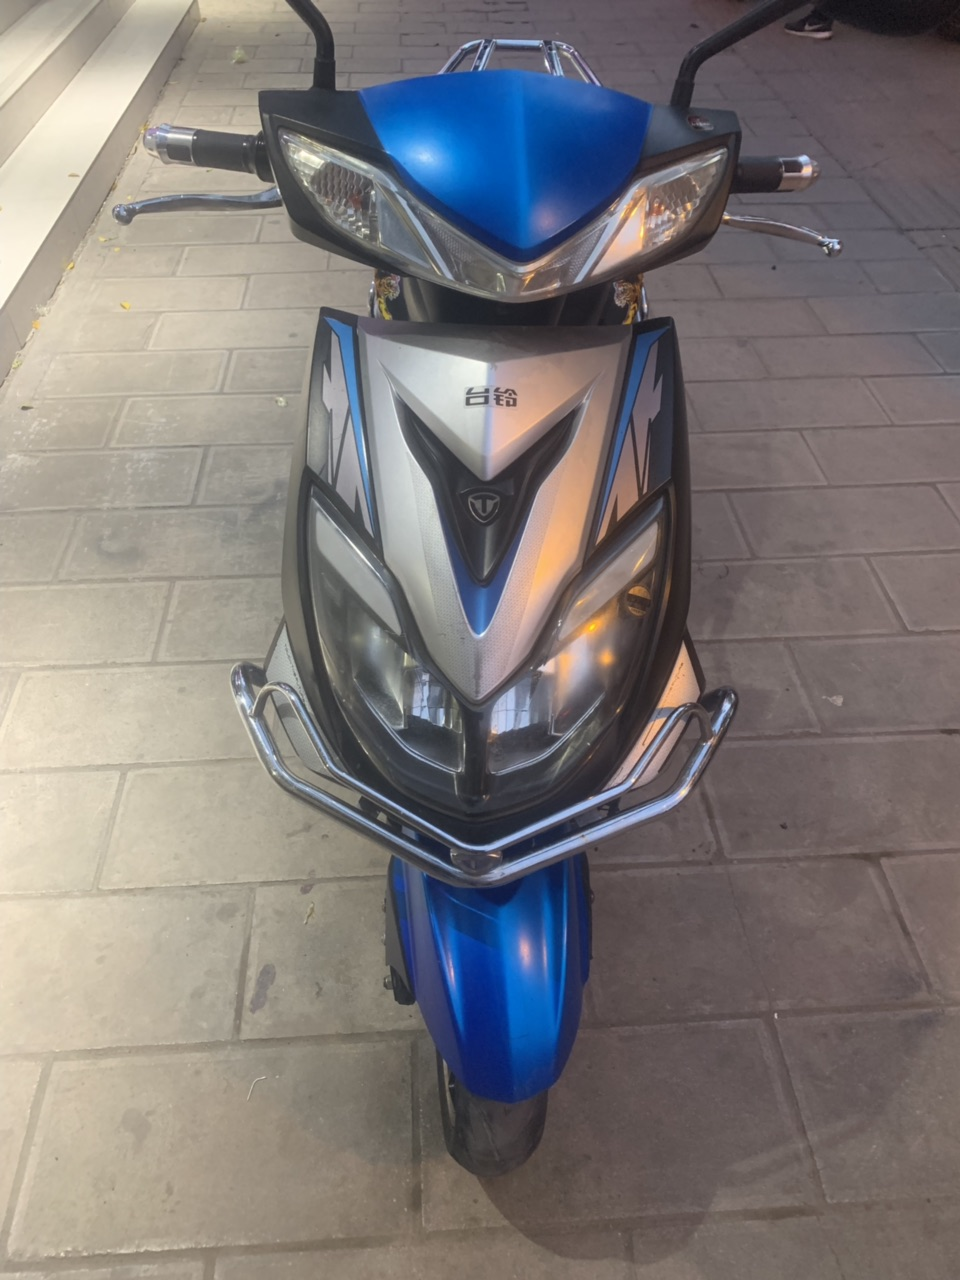电动车: (97, 1, 853, 1195)
